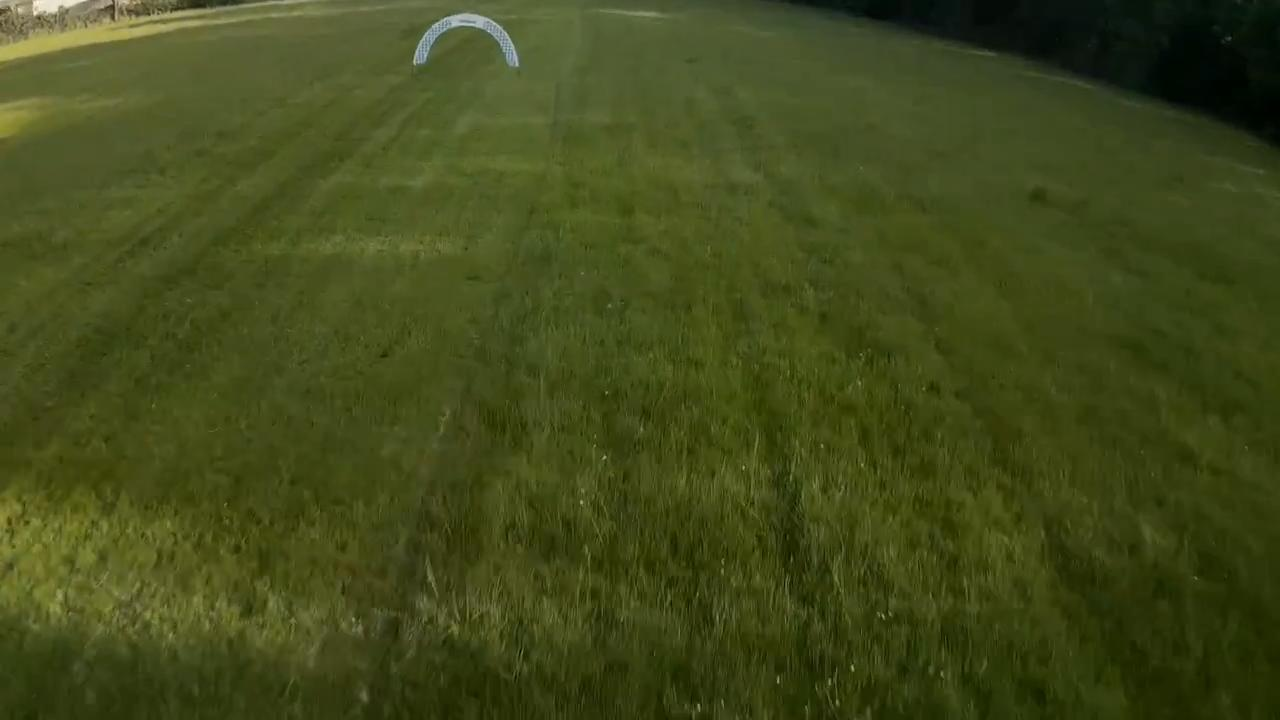gate: (410, 10, 523, 67)
